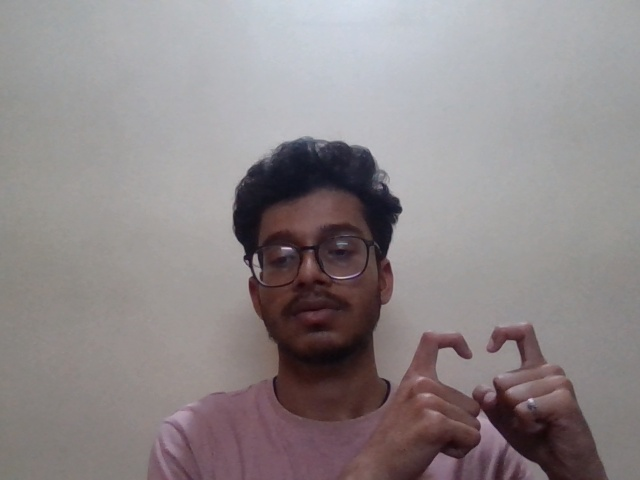who: (393, 320, 585, 451)
